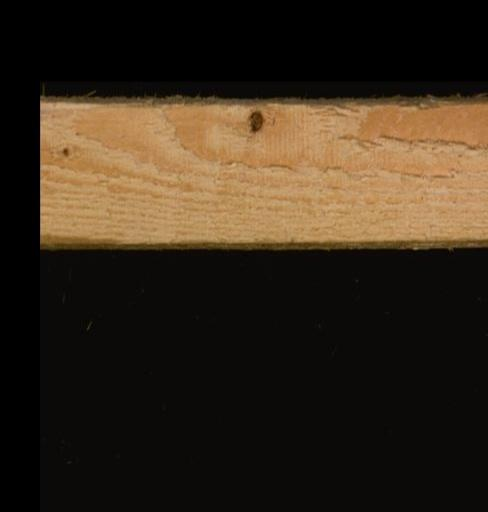dry_knot: (245, 107, 265, 136)
small_knot: (57, 143, 75, 159)
wave: (40, 232, 143, 247)
